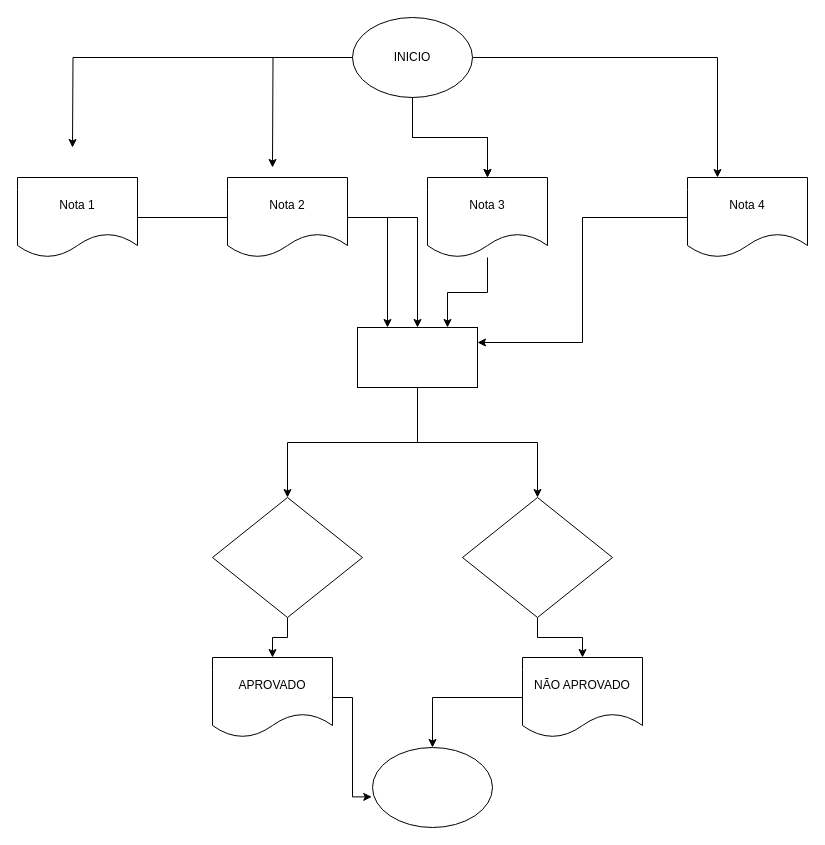
The diagram is 825 pixels wide and 845 high, and some of its shapes have lost their labels. The box of each missing label's shape, as (x1, y1, x2, y2) in pixels:
Calcule a média: (356, 326, 478, 388)
FIM: (372, 746, 492, 828)
Se média < 7: (462, 496, 612, 618)
Se média > 7: (212, 496, 362, 618)
